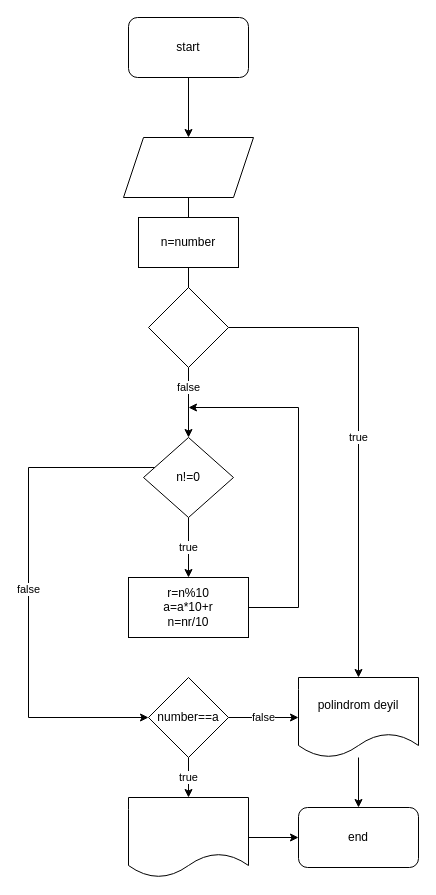
Some shapes in this 436 by 895 pixel diagram are drawn without their labels. The centre of each missing label's shape, as x and y in pixels:
"n,number, a=0, r" goes at point 188,167.
"n<0" goes at point 188,327.
"polindromdur" goes at point 188,837.
